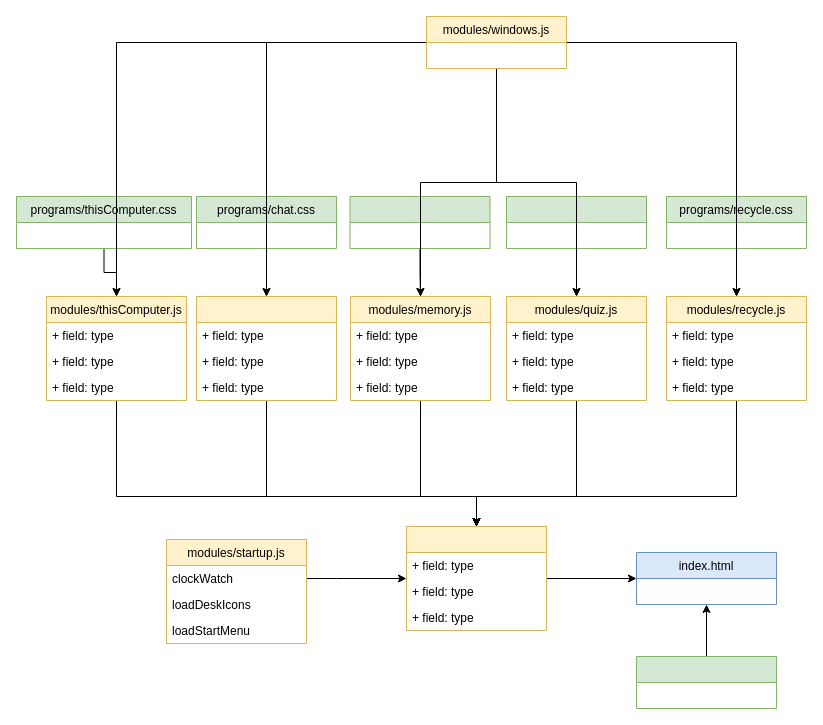
Some shapes in this 823 by 725 pixel diagram are drawn without their labels. The shapes that lost their labels are listed below. From the top down, each one's box as (x1, y1, x2, y2) in pixels, then its label:
(349, 196, 490, 248): programs/memory.css
(506, 196, 646, 248): programs/quiz.css
(196, 296, 336, 400): modules/chat.js
(406, 526, 546, 630): js/main.js
(636, 656, 776, 708): style.css
